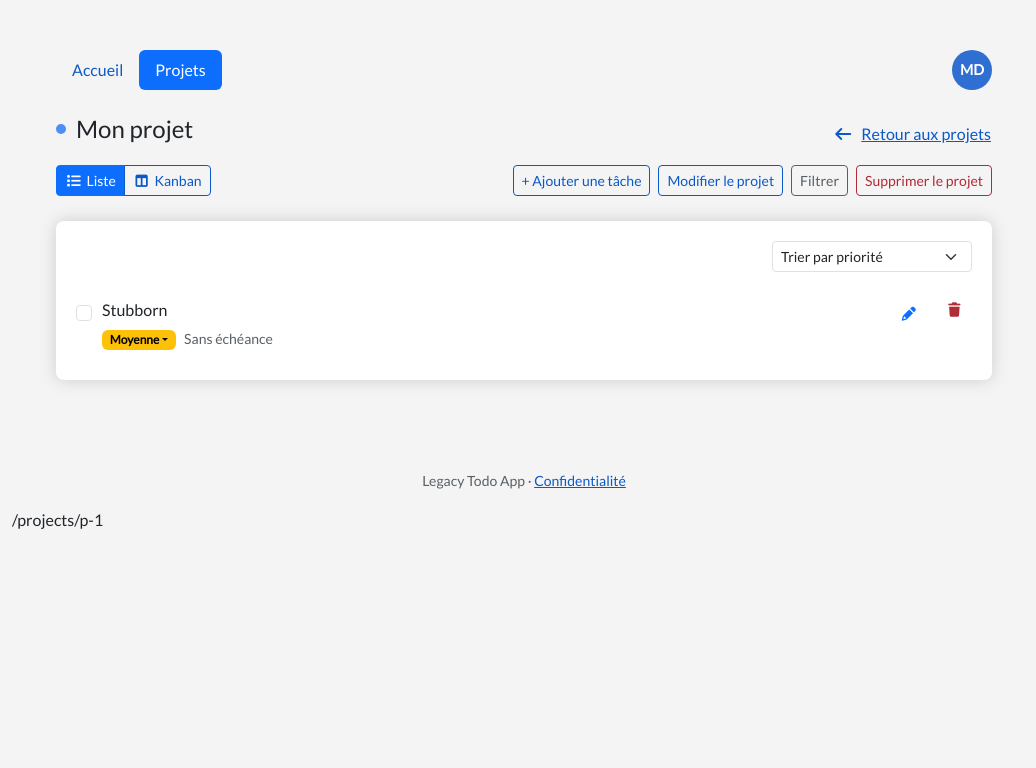
Test: toggling a task › a failed update (404) leaves the task untouched and shows "Not Found"
Step 1. Click the checkbox → (84, 313), box [76,305,92,321]
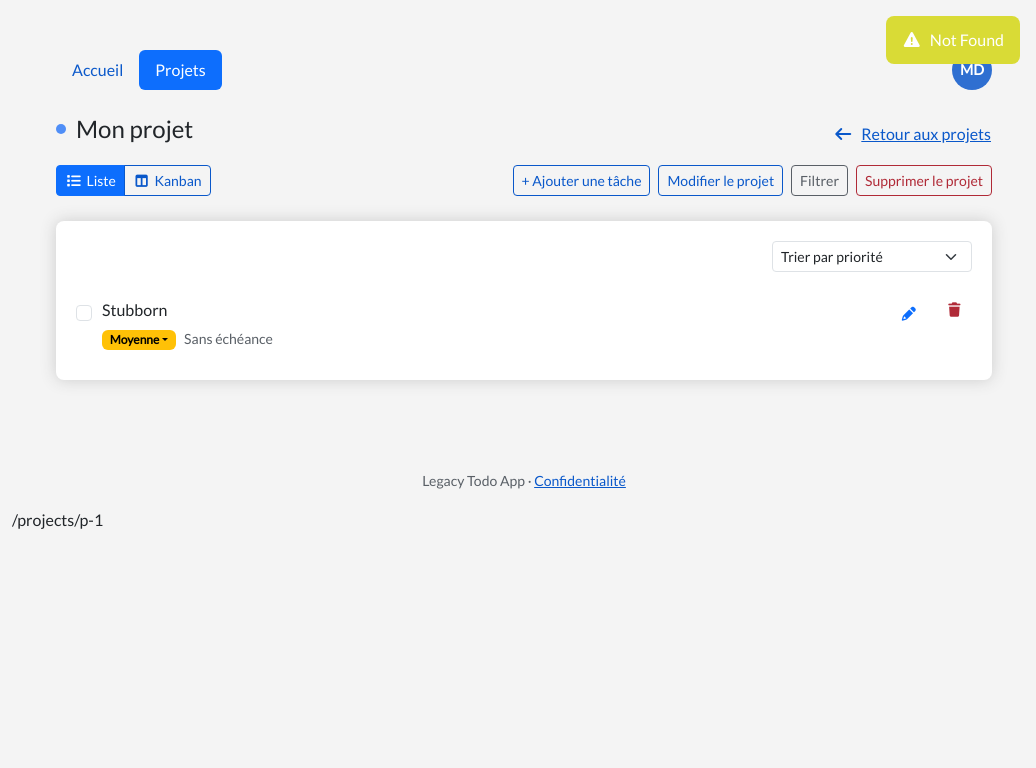
Expected: the text "Not Found" is shown, [930,30,1004,49]
